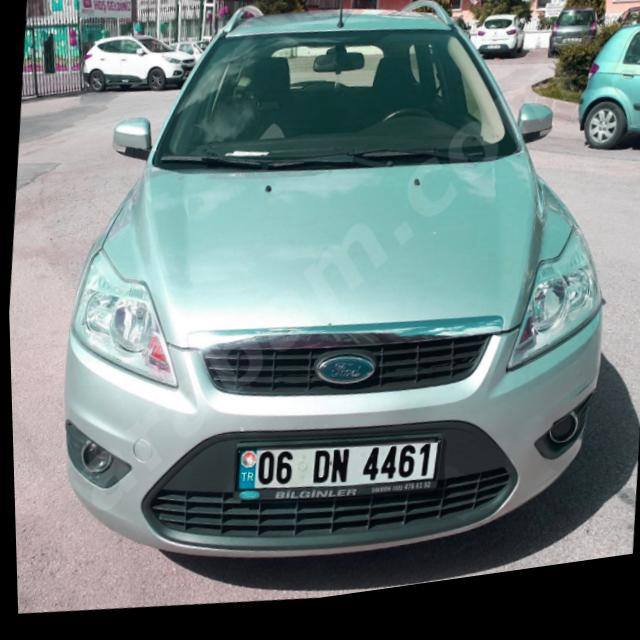license_plate: (230, 432, 436, 515)
